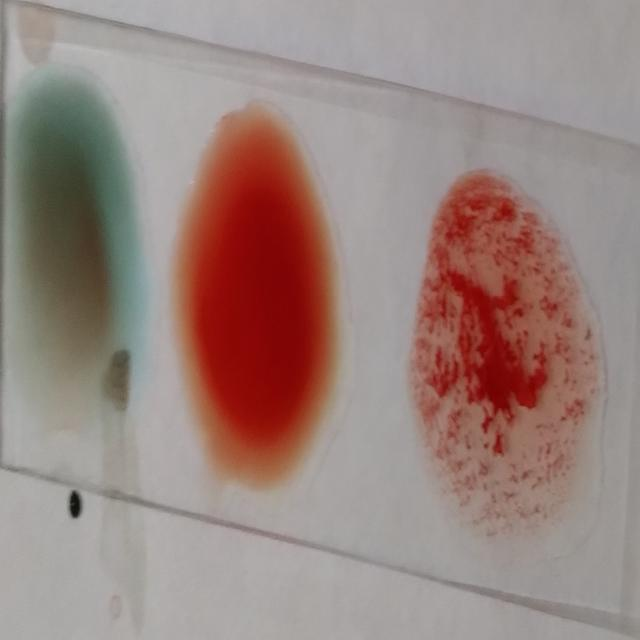D: (411, 175, 610, 546)
